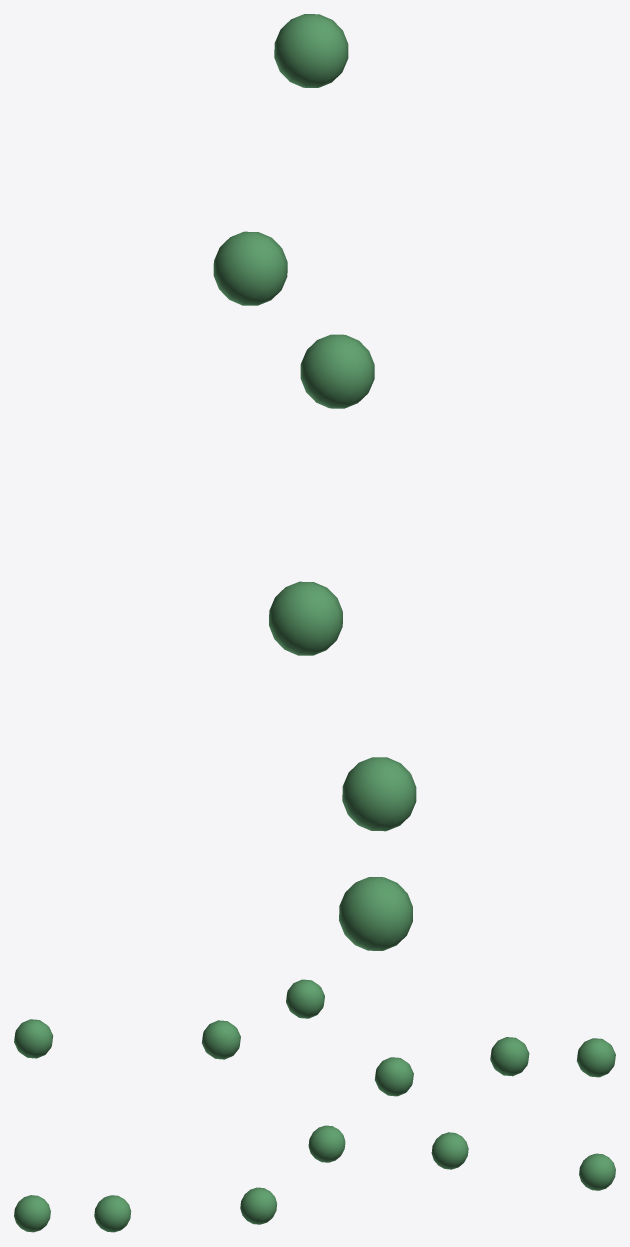
3 renders of one model, top to bottom at view 1: azimuth 30°, elevation 25°; view 2: azimuth 150°, elevation 25°; view 3: azimuth 270°, elevation 25°, orthographic. The views are drawn at different scales.
Visible parts, largest first — view 1: 左侧颈外侧浅淋巴结; view 2: 左侧颈外侧浅淋巴结; view 3: 左侧颈外侧浅淋巴结.
Boxes of the visible parts, x1,y1,x2,y2 form: 左侧颈外侧浅淋巴结: (213,14,416,950); 左侧颈外侧浅淋巴结: (14,979,615,1096); 左侧颈外侧浅淋巴结: (14,1125,615,1232).
Bounding box in the file's own units: 0.0332 × 0.0221 × 0.0612.
